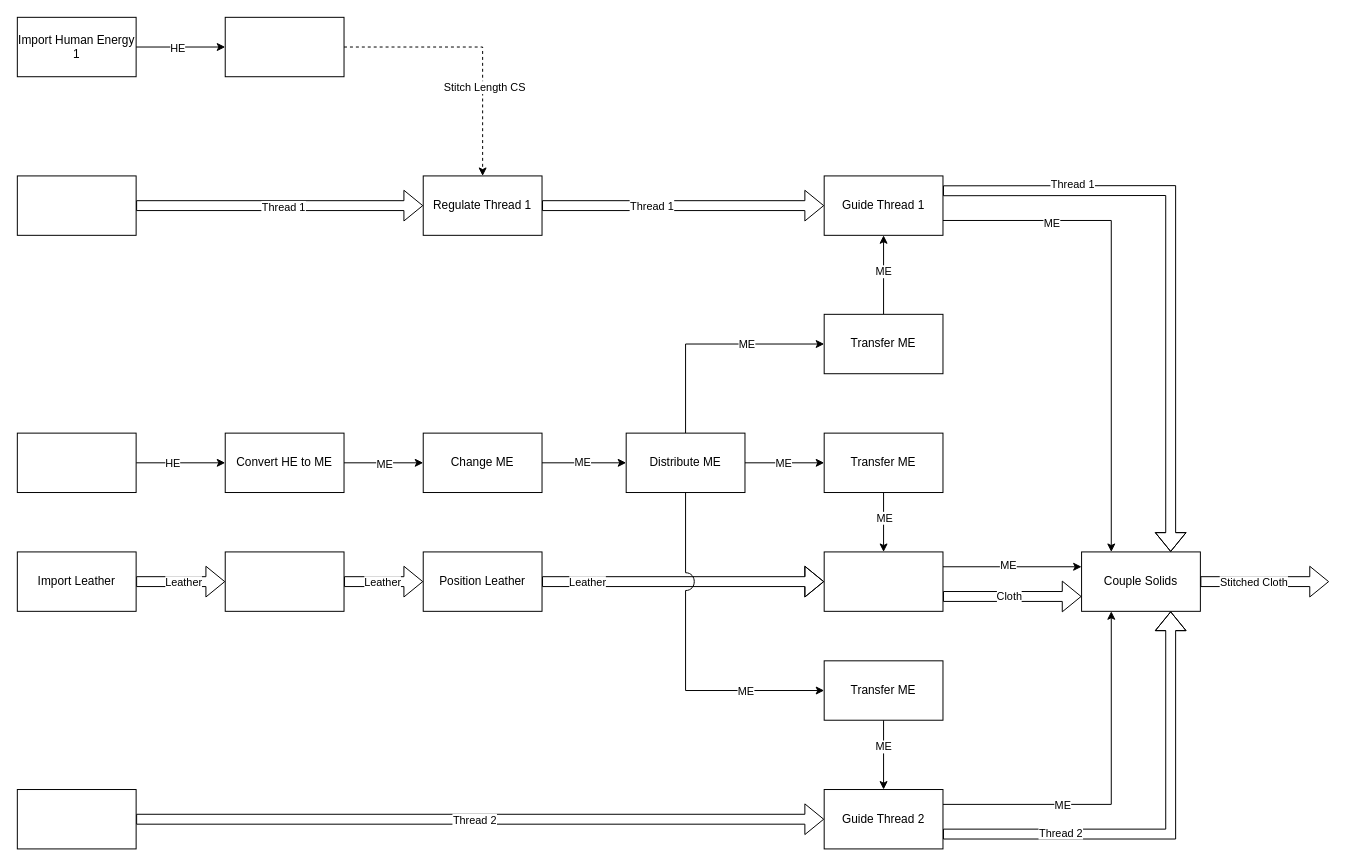
This 1346x866 diagram has some shape labels left out. The shapes that lost their labels are listed below. From the top down, each one's centre as x and y in pixels, then its label:
At (284,46): "Convert HE to CS".
At (76,205): "Import Thread 1".
At (76,462): "Import Human Energy 2".
At (284,581): "Secure Leather".
At (883,581): "Guide Leather".
At (76,819): "Import Thread 2".
